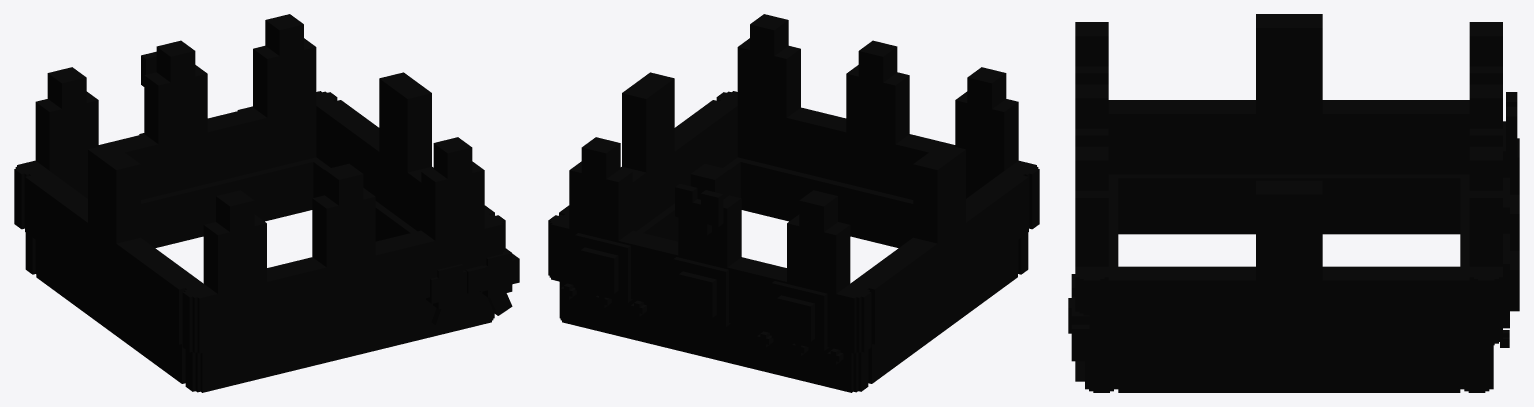
File: hat_royal_crown.obj
The picture shows the model from 3 angles, left to right: view 1: azimuth 30°, elevation 25°; view 2: azimuth 150°, elevation 25°; view 3: azimuth 270°, elevation 25°; orthographic projection. The views are drawn at different scales.
Size of the model in its own units: 0.5781 by 0.3125 by 0.5937.
